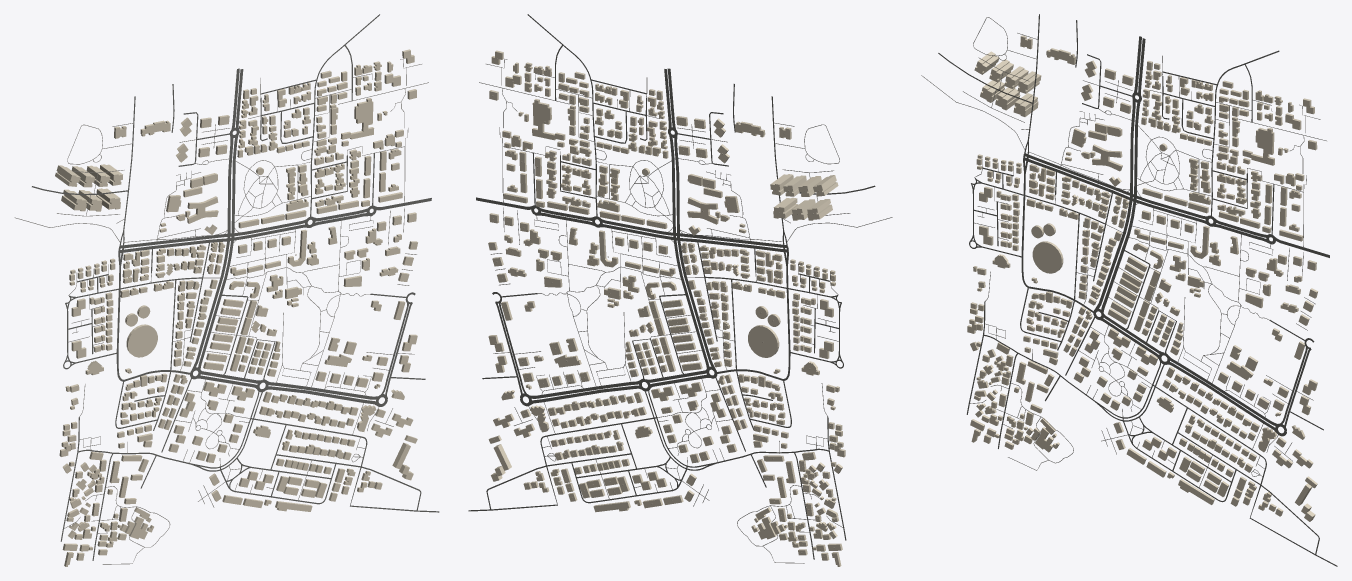
Rendered from historic-palestine-07_25_3485_3192.glb.
3 views of the same model, side by side, from view 1: azimuth 30°, elevation 25°; view 2: azimuth 150°, elevation 25°; view 3: azimuth 330°, elevation 25° (orthographic). The views are drawn at different scales.
Parts seen in each view (by area): view 1: Building_.224, Building_.050; view 2: Building_.224, Building_.050; view 3: Building_.224, Building_.050.
Boxes of the visible parts, box(x1,y1,x2,y2) form: Building_.224: box(126, 324, 157, 357); Building_.050: box(340, 98, 374, 139); Building_.224: box(748, 325, 779, 357); Building_.050: box(532, 99, 565, 140); Building_.224: box(1032, 241, 1063, 273); Building_.050: box(1242, 127, 1274, 165).
Bounding box in the file's own units: 1161 × 1339 × 66.3.
